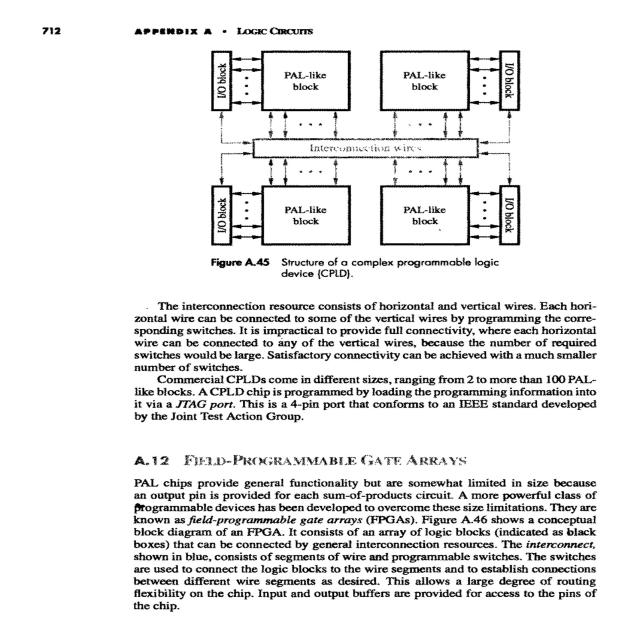diagram: (138, 48, 579, 281)
